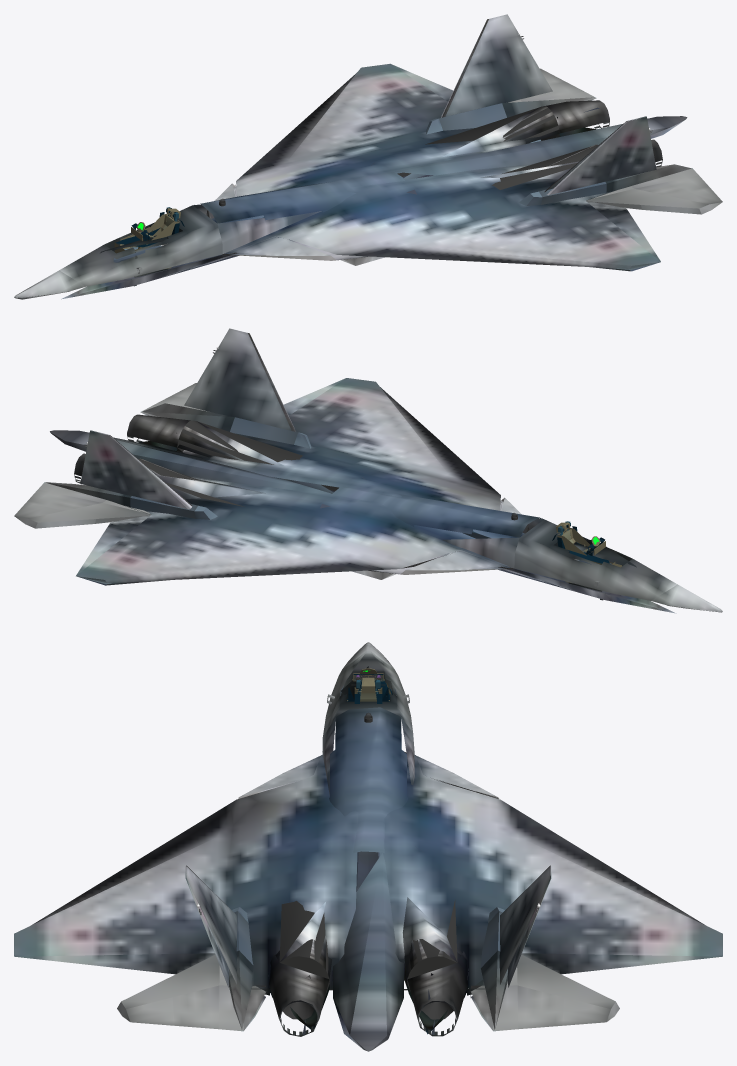
3 views of the same model, one above another, from view 1: azimuth 30°, elevation 25°; view 2: azimuth 150°, elevation 25°; view 3: azimuth 270°, elevation 25° (orthographic). The views are drawn at different scales.
Parts seen in each view (by area): view 1: Object_5, Object_6, Object_8, Object_4, Object_7, Object_14; view 2: Object_5, Object_6, Object_8, Object_4, Object_7, Object_14; view 3: Object_5, Object_6, Object_8, Object_4, Object_7, Object_9.
Part boxes in pixels (x1=…): Object_5: x1=14, y1=14, x2=722, y2=299; Object_6: x1=14, y1=22, x2=660, y2=297; Object_8: x1=200, y1=172, x2=404, y2=223; Object_4: x1=113, y1=106, x2=598, y2=262; Object_7: x1=61, y1=80, x2=710, y2=299; Object_14: x1=114, y1=208, x2=180, y2=269; Object_5: x1=14, y1=328, x2=722, y2=612; Object_6: x1=76, y1=347, x2=722, y2=611; Object_8: x1=331, y1=486, x2=543, y2=537; Object_4: x1=139, y1=420, x2=611, y2=568; Object_7: x1=27, y1=394, x2=676, y2=613; Object_14: x1=556, y1=522, x2=622, y2=582; Object_5: x1=14, y1=649, x2=722, y2=1051; Object_6: x1=15, y1=642, x2=721, y2=995; Object_8: x1=329, y1=707, x2=407, y2=853; Object_4: x1=255, y1=686, x2=498, y2=1019; Object_7: x1=175, y1=851, x2=561, y2=1050; Object_9: x1=283, y1=684, x2=453, y2=1019.
Bounding box in the file's own units: 2.71 × 0.441 × 1.89.
Materials: 18 (7 with a texture image).
